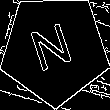N_S: (29, 19, 80, 80)
